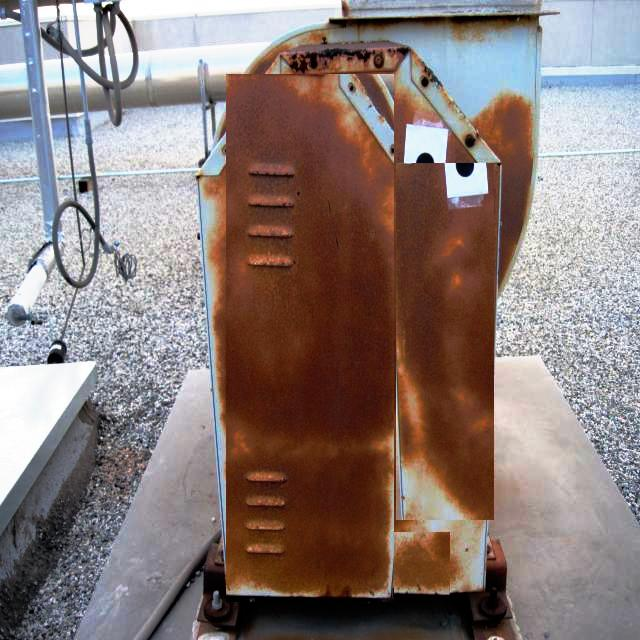Corrosion: (223, 75, 395, 596), (397, 163, 500, 506), (475, 95, 535, 286), (395, 533, 459, 594), (285, 42, 407, 72), (358, 74, 395, 126), (395, 93, 415, 162)
